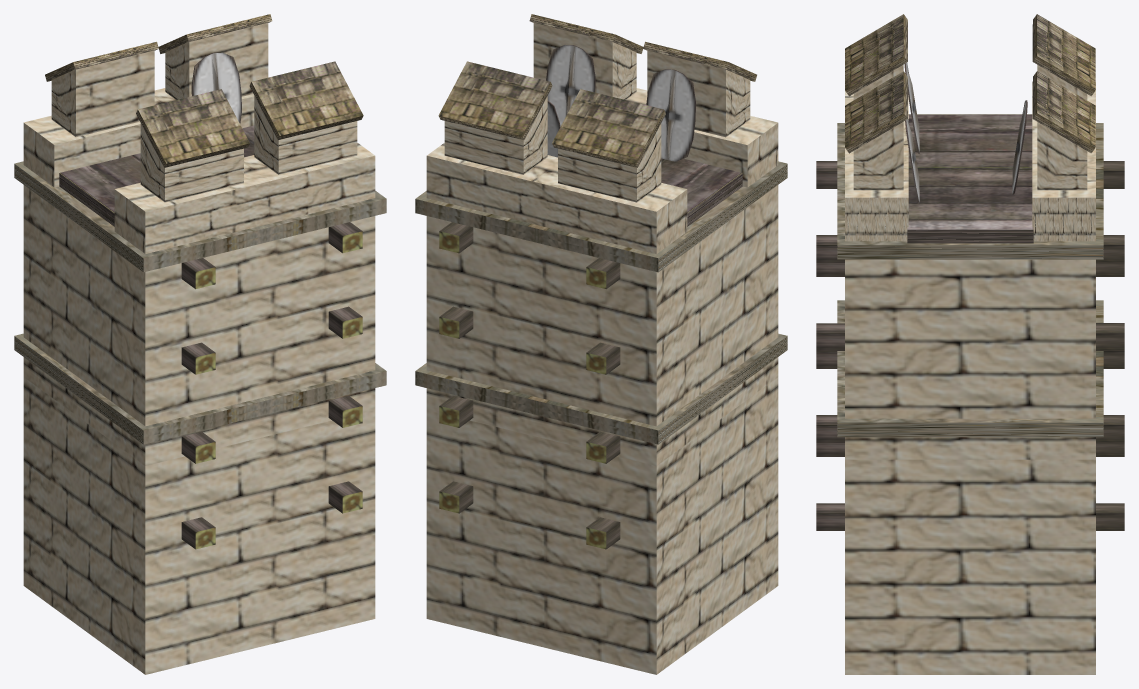
File: wall_short.dae
The picture shows the model from 3 angles, left to right: view 1: azimuth 30°, elevation 25°; view 2: azimuth 150°, elevation 25°; view 3: azimuth 270°, elevation 25°; orthographic projection. The views are drawn at different scales.
Visible parts, largest first — view 1: wall_short; view 2: wall_short; view 3: wall_short.
Part boxes in pixels (x1,y1,x2,y2): wall_short: (14,14,386,674); wall_short: (415,14,787,674); wall_short: (816,14,1124,674).
Size of the model in its own units: 8.66 by 9.22 by 18.34.
